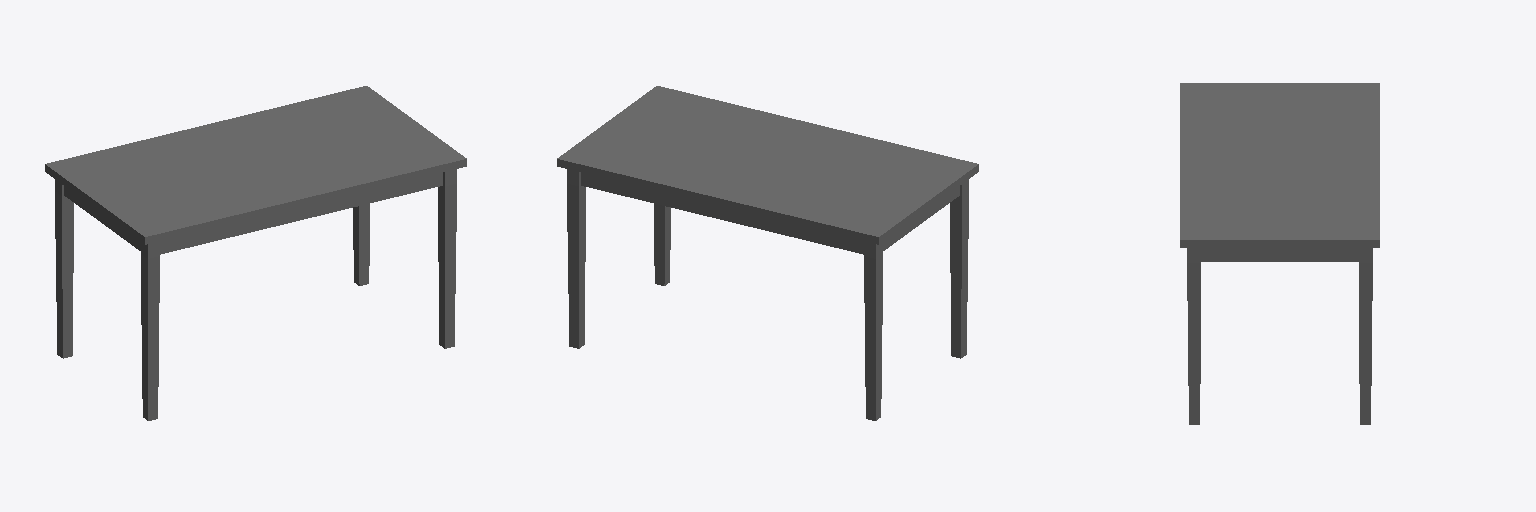
The model's file is old_desk.obj.
3 renders of one model, left to right at view 1: azimuth 30°, elevation 25°; view 2: azimuth 150°, elevation 25°; view 3: azimuth 270°, elevation 25°, orthographic.
Parts seen in each view (by area): view 1: old_wooden_table_Untitled; view 2: old_wooden_table_Untitled; view 3: old_wooden_table_Untitled.
Part boxes in pixels (left/top/right/bottom): old_wooden_table_Untitled: left=45, top=86, right=466, bottom=420; old_wooden_table_Untitled: left=557, top=86, right=978, bottom=420; old_wooden_table_Untitled: left=1180, top=83, right=1379, bottom=424.
Bounding box in the file's own units: 1.3 × 0.73 × 0.7.